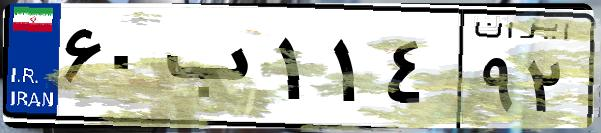0: (110, 28, 158, 98)
1: (270, 28, 330, 110), (330, 28, 385, 110)
2: (525, 38, 570, 115)
4: (385, 28, 445, 110)
6: (57, 26, 110, 100)
9: (475, 38, 525, 113)
ب: (158, 20, 270, 120)
